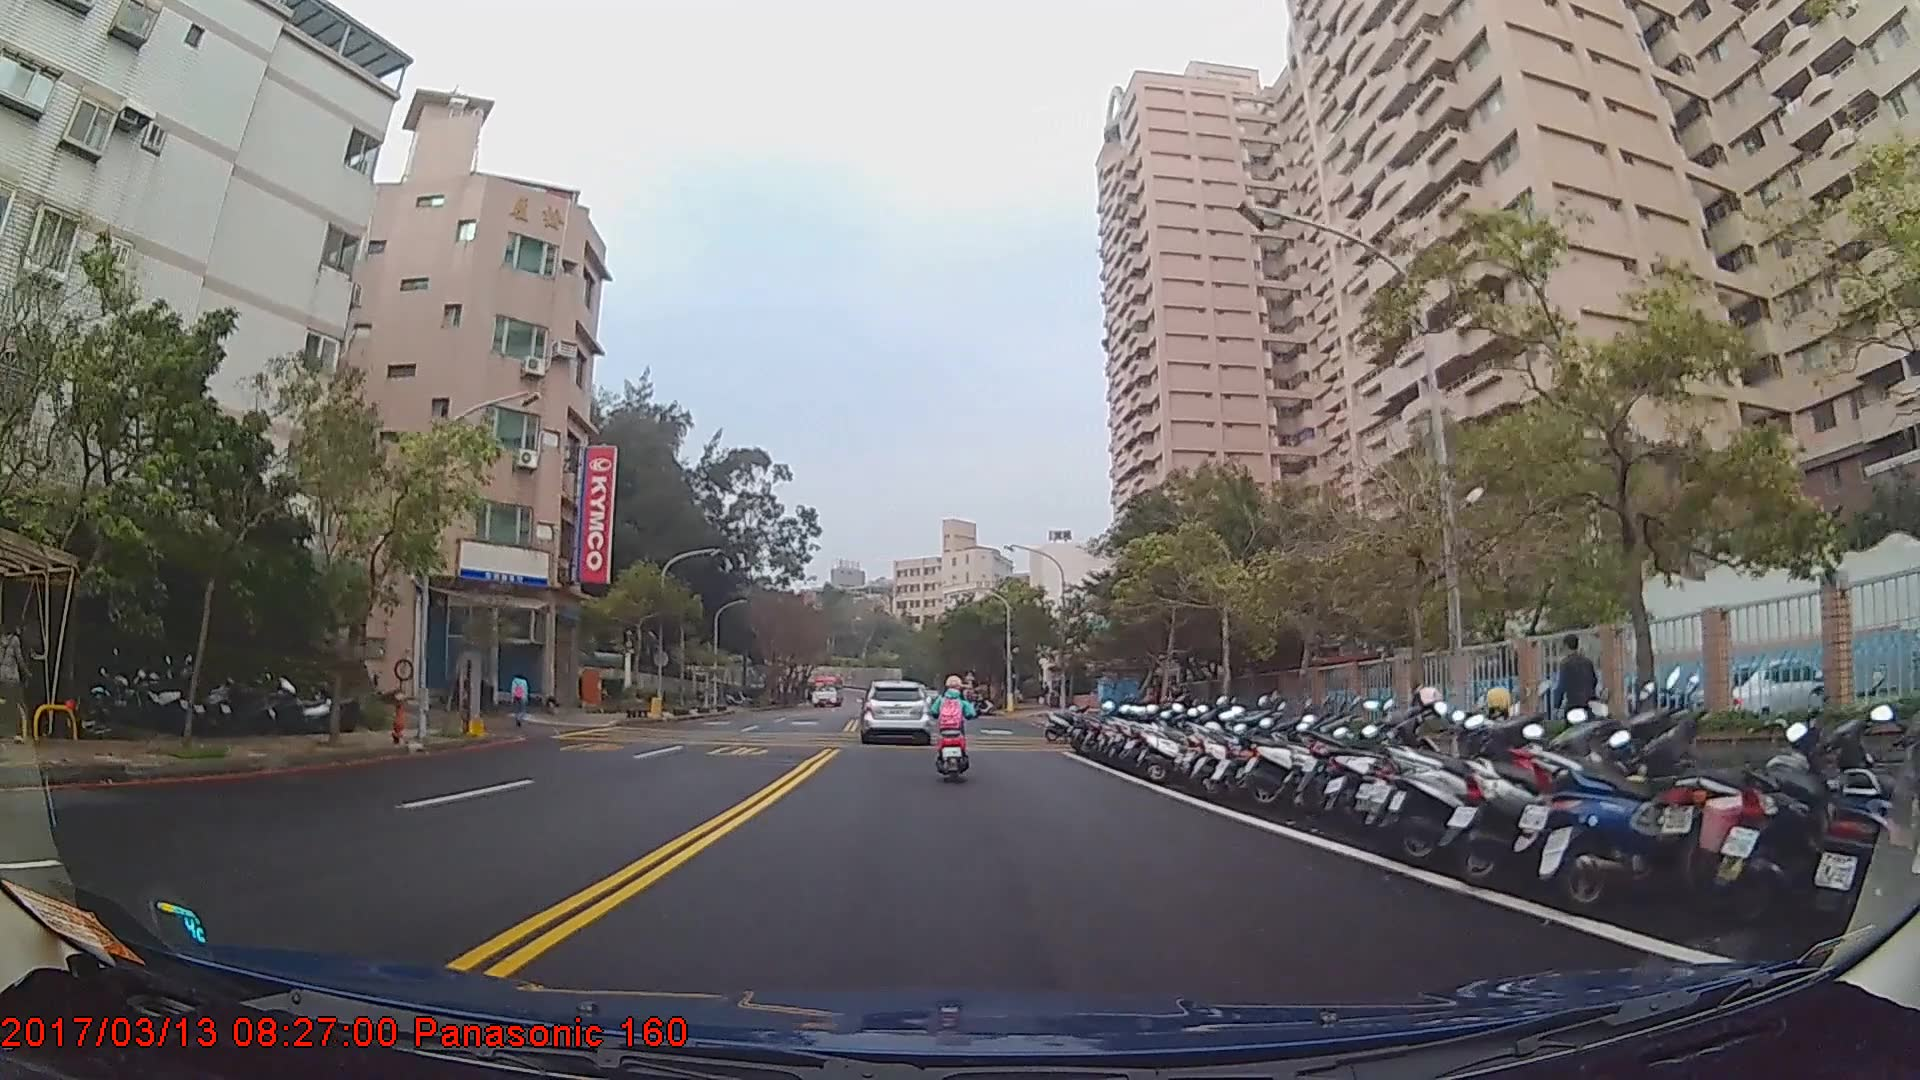pedestrian: (1551, 633, 1599, 772), (1, 615, 38, 744), (510, 667, 531, 728)
rider: (932, 672, 979, 786)
vehicle: (860, 676, 932, 744), (807, 672, 844, 710)
